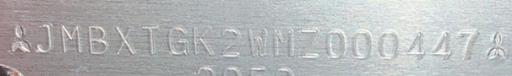letter: (270, 25, 298, 59), (244, 25, 270, 59), (85, 21, 109, 55), (166, 24, 190, 58), (297, 26, 321, 60), (405, 26, 427, 63), (114, 22, 136, 58), (350, 27, 374, 60), (429, 28, 453, 61), (456, 28, 480, 61), (217, 26, 243, 56), (376, 29, 400, 61), (60, 21, 82, 55), (192, 23, 214, 57), (324, 27, 346, 61), (140, 22, 160, 56), (34, 21, 54, 53)
